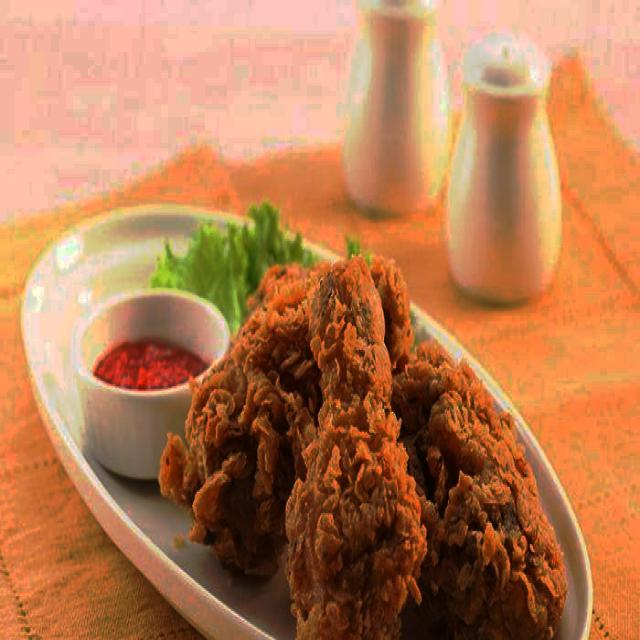fried_chicken: (252, 262, 570, 637), (164, 262, 407, 583), (289, 246, 433, 640)
